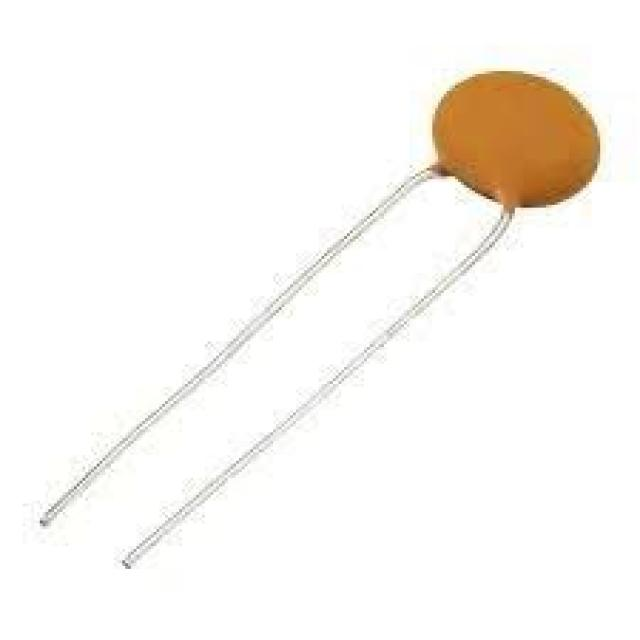Capacitor: (40, 71, 603, 569)
